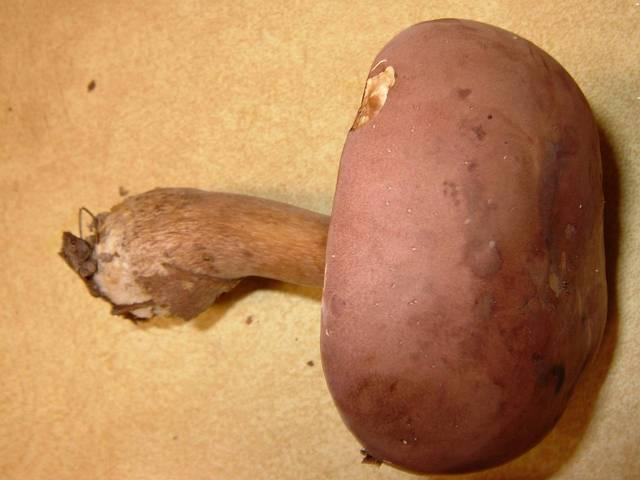poisonous_mushroom: (58, 15, 611, 476)
